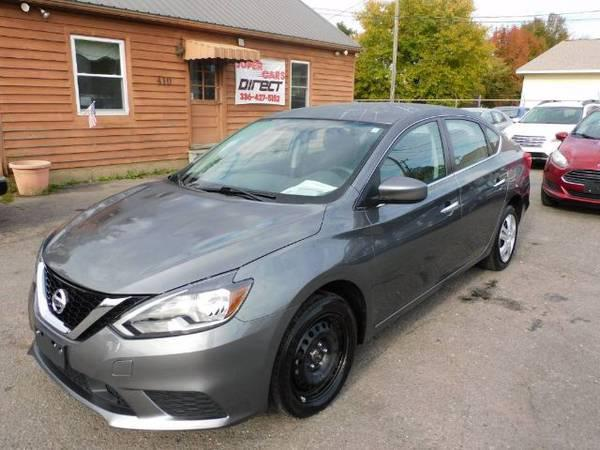Front_Bumper: (27, 303, 299, 428)
Front_Fender: (236, 181, 378, 339)
Front_Left_Door: (366, 174, 472, 326)
Front_Left_Window: (361, 120, 449, 212)
Front_Windshield: (172, 120, 391, 206)
Grille: (34, 249, 156, 337)
Hood: (46, 178, 328, 293)
Left_Headlight: (106, 269, 254, 343)
Rear_Fender: (495, 147, 530, 205)
Rear_Left_Door: (454, 154, 505, 268)
Rear_Left_Window: (440, 117, 501, 175)
Roof: (262, 103, 518, 206)
Wheel: (278, 296, 365, 420), (494, 207, 522, 267)
